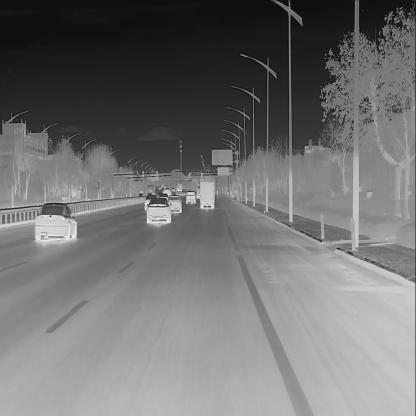car: (34, 203, 78, 242), (146, 197, 172, 224), (167, 193, 182, 215), (144, 194, 160, 212), (185, 190, 196, 204), (161, 188, 173, 197), (158, 192, 168, 202), (138, 192, 143, 198), (171, 186, 175, 192)
truck: (198, 178, 216, 210), (146, 183, 156, 196), (195, 184, 201, 199), (176, 182, 182, 192)
